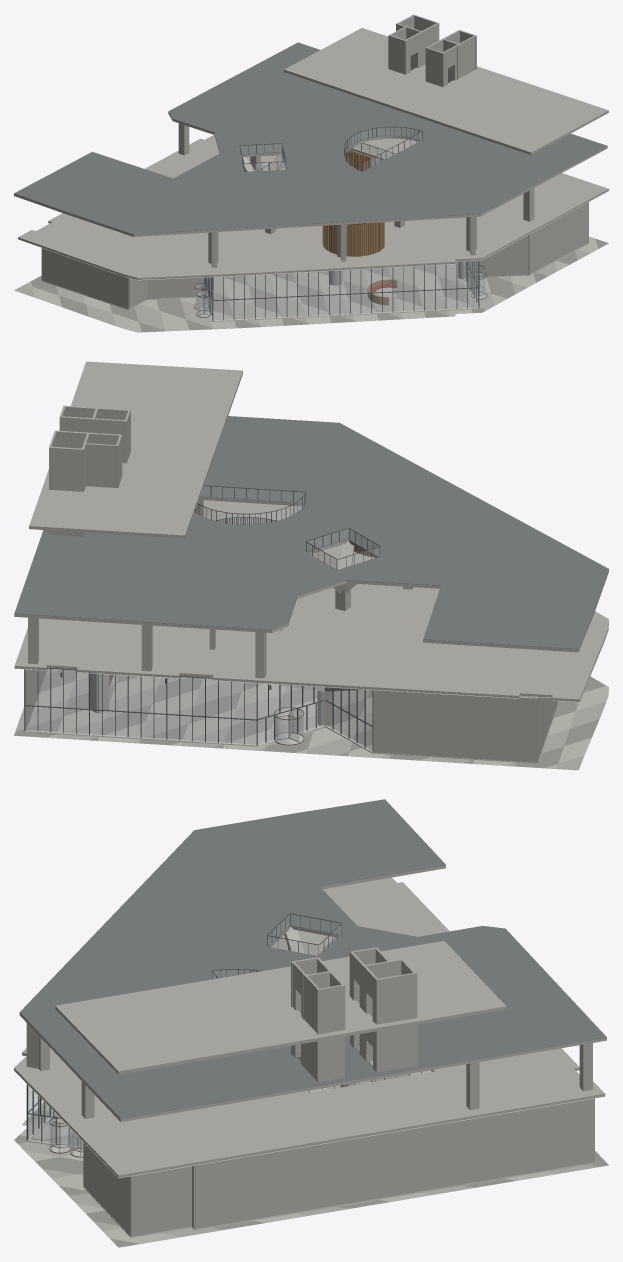
File: mar-interior-f5a3b2e31c94.glb
3 renders of one model, top to bottom at view 1: azimuth 30°, elevation 25°; view 2: azimuth 150°, elevation 25°; view 3: azimuth 270°, elevation 25°, orthographic. The views are drawn at different scales.
Visible parts, largest first — view 1: MAR.001; view 2: MAR.001; view 3: MAR.001.
Part boxes in pixels (x1,y1,x2,y2): MAR.001: [14, 14, 608, 332]; MAR.001: [14, 361, 608, 770]; MAR.001: [14, 799, 608, 1247].
Bounding box in the file's own units: 67.69 × 21.83 × 53.21.
